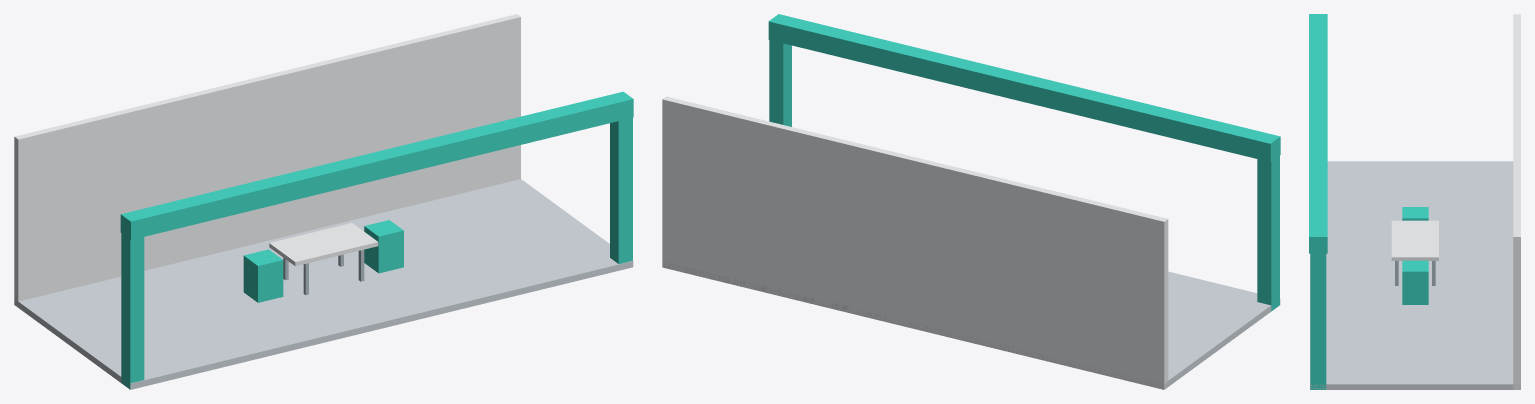
3 views of the same model, side by side, from view 1: azimuth 30°, elevation 25°; view 2: azimuth 150°, elevation 25°; view 3: azimuth 270°, elevation 25° (orthographic). The views are drawn at different scales.
Visible parts, largest first — view 1: Exhibition Booth Concept; view 2: Exhibition Booth Concept; view 3: Exhibition Booth Concept.
Part boxes in pixels (left/top/right/bottom): Exhibition Booth Concept: left=14, top=14, right=633, bottom=389; Exhibition Booth Concept: left=662, top=14, right=1280, bottom=389; Exhibition Booth Concept: left=1309, top=14, right=1520, bottom=389.
Bounding box in the file's own units: 10 × 3.2 × 4.02.
